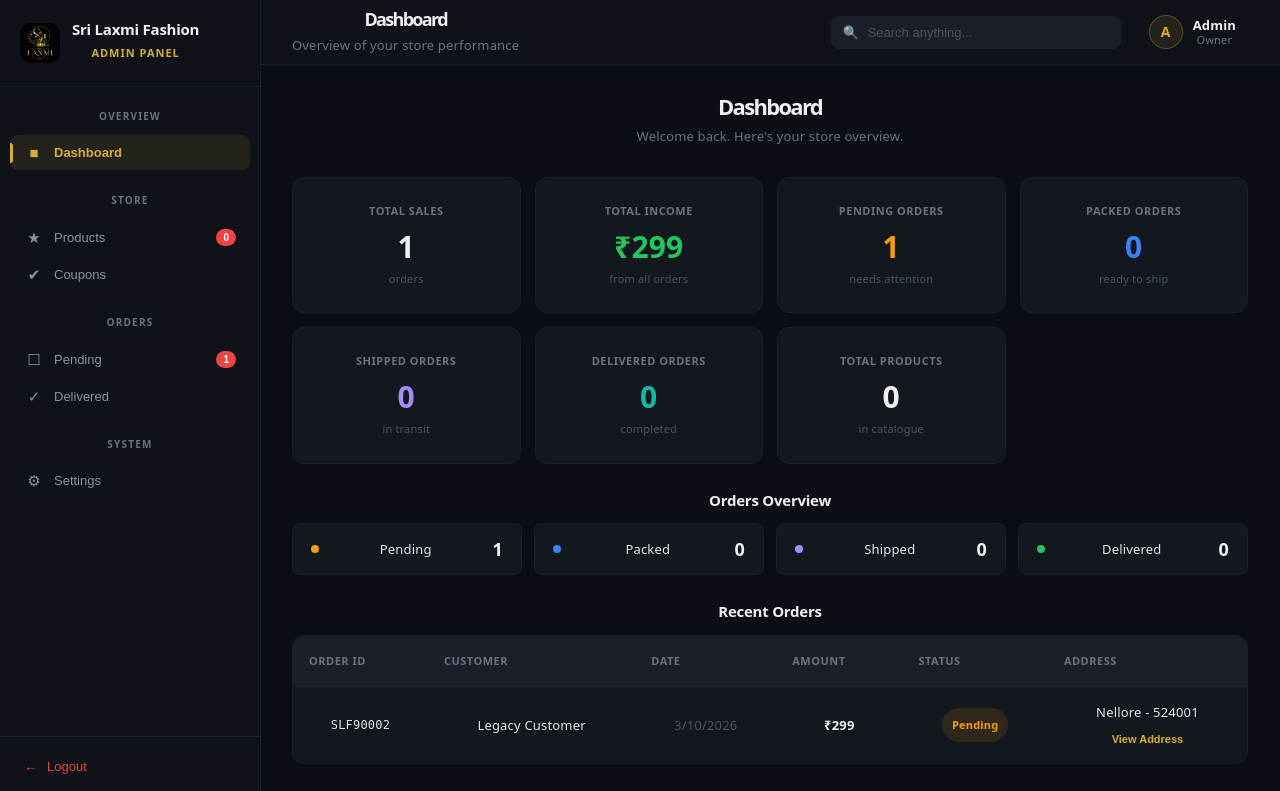
Admin order cards: delivery address › renders a partially populated address without broken separators
This screenshot has width=1280, height=791.
Click the button "☐ Pending 1".
click(130, 360)  # box [10, 341, 250, 378]
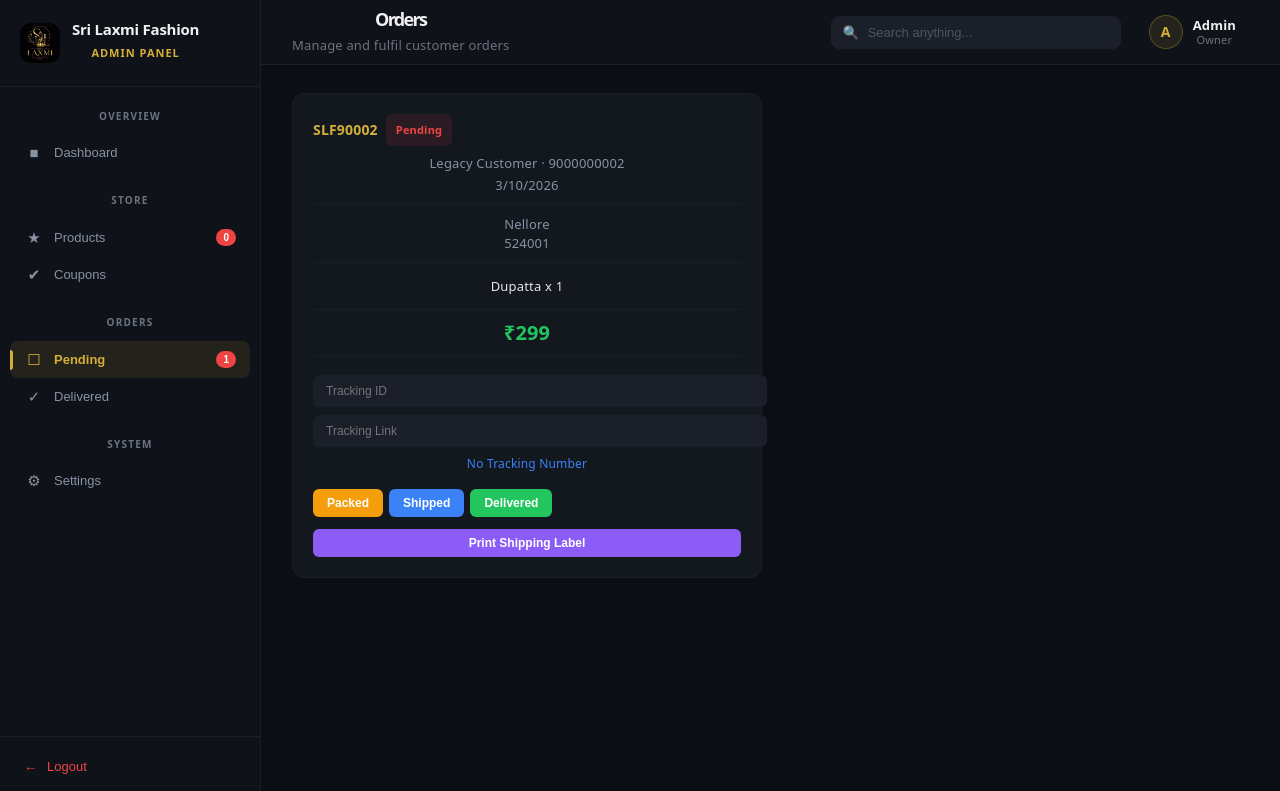
Result: the element with class "admin-order-meta" showing "Nellore524001" is shown at [504, 216, 550, 252]
Result: the element with class "admin-order-meta" shows "Nellore" at [504, 216, 550, 234]
Result: the element with class "admin-order-meta" shows "524001" at [504, 234, 550, 252]
